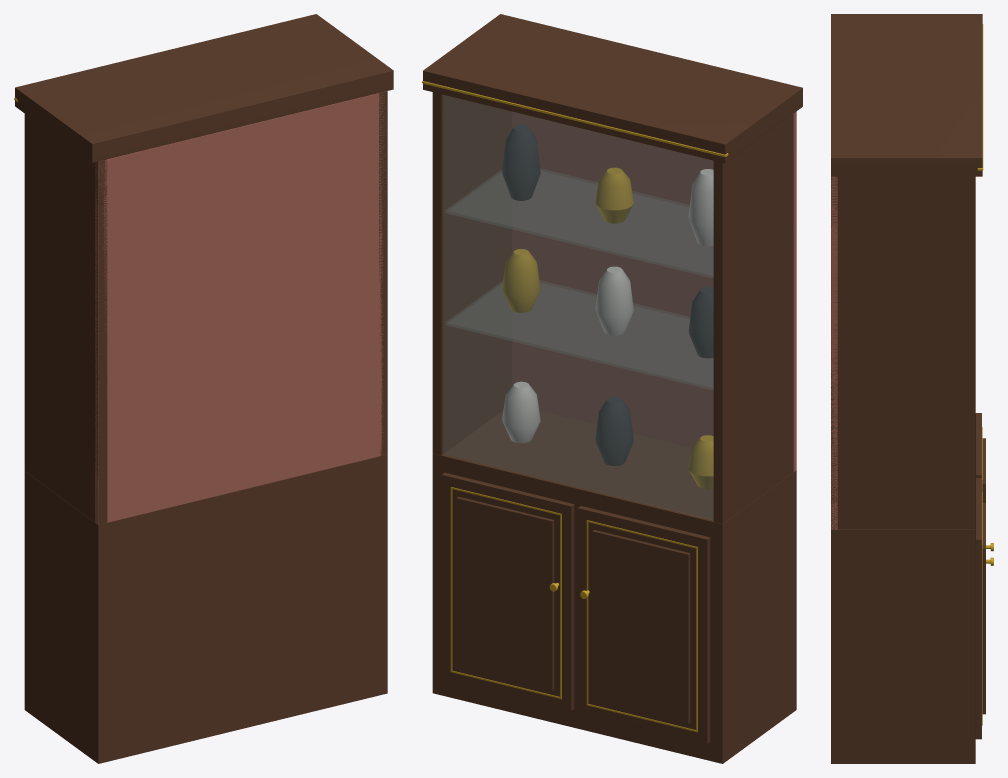
Rendered from prop_vitrine_decor.glb.
3 renders of one model, left to right at view 1: azimuth 30°, elevation 25°; view 2: azimuth 150°, elevation 25°; view 3: azimuth 270°, elevation 25°, orthographic. The views are drawn at different scales.
Parts seen in each view (by area): view 1: Vitrine; view 2: Vitrine; view 3: Vitrine.
Boxes of the visible parts, box(x1,y1,x2,y2) form: Vitrine: box(14, 14, 393, 763); Vitrine: box(422, 14, 802, 763); Vitrine: box(831, 14, 993, 763).
Size of what is drawn, in the model's own units: 0.994 by 1.95 by 0.473.
